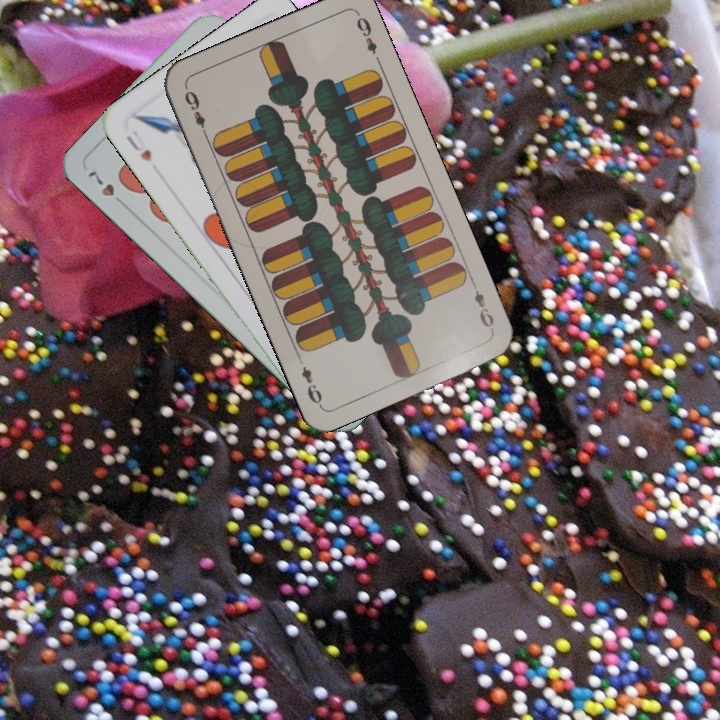E9: (180, 86, 211, 140), (468, 277, 497, 334)
H7: (83, 166, 130, 209)
HU: (121, 126, 155, 165)
